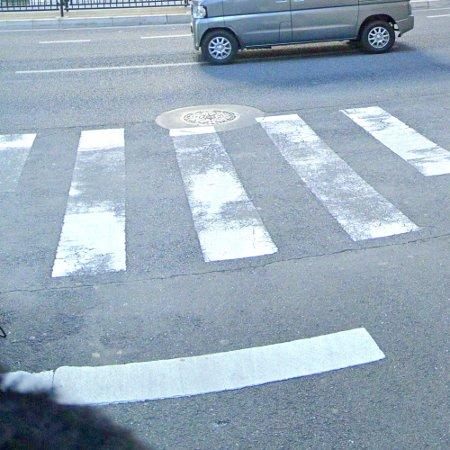crosswalks: (0, 103, 450, 286)
